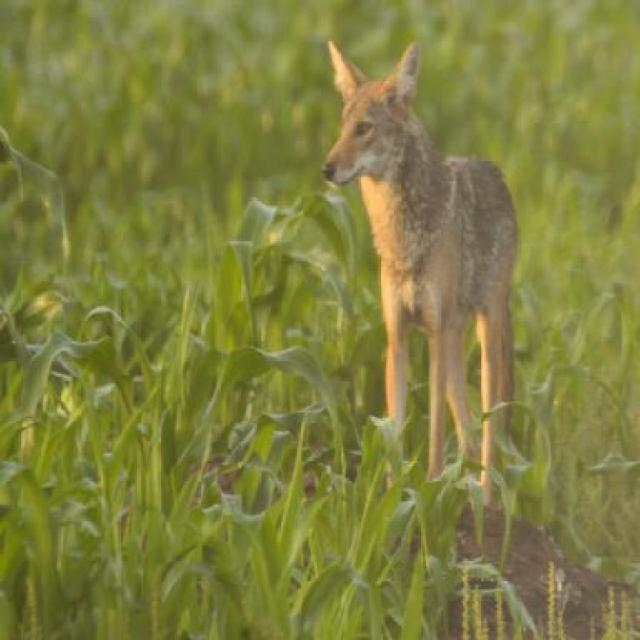Coyote: (321, 36, 522, 510)
